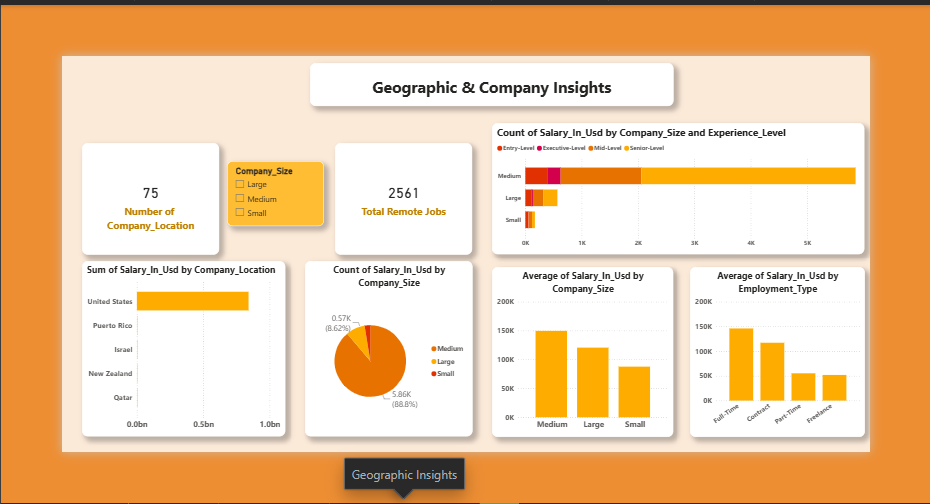

The dashboard page shown, as its layout file describes it:
{"tool":"powerbi","page":{"name":"Geographic Insights","canvas":[1650,810],"ordinal":2},"visuals":[{"type":"clusteredColumnChart","fields":{"Category":["data_science_salaries.Company_Size"],"Y":["Avg(data_science_salaries.Salary_In_Usd)"]},"box":[878.3,430,370,346.7],"z":0},{"type":"card","fields":{"Values":["Count(data_science_salaries.Company_Location)"]},"box":[40,176.7,280,228.3],"z":1},{"type":"clusteredBarChart","fields":{"Category":["data_science_salaries.Company_Location"],"Y":["Sum(data_science_salaries.Salary_In_Usd)"]},"box":[40,418.3,415,358.3],"z":2},{"type":"card","fields":{"Values":["CountNonNull(data_science_salaries.Salary_In_Usd)"]},"box":[556.7,176.7,280,228.3],"z":4},{"type":"slicer","fields":{"Values":["data_science_salaries.Company_Size"]},"box":[336.7,215,198.3,133.3],"z":5},{"type":"pieChart","fields":{"Category":["data_science_salaries.Company_Size"],"Y":["CountNonNull(data_science_salaries.Salary_In_Usd)"]},"box":[495,418.3,341.7,358.3],"z":7},{"type":"barChart","fields":{"Category":["data_science_salaries.Company_Size"],"Y":["CountNonNull(data_science_salaries.Salary_In_Usd)"],"Series":["data_science_salaries.Experience_Level"]},"box":[878.3,136.7,760,268.3],"z":8},{"type":"textbox","box":[506.7,13.3,741.7,88.3],"z":9},{"type":"clusteredColumnChart","fields":{"Category":["data_science_salaries.Employment_Type"],"Y":["Avg(data_science_salaries.Salary_In_Usd)"]},"box":[1281.7,430,356.7,346.7],"z":10}]}

Visuals, with their boxes on the page's 1650x810 design canvas (x1, y1, x2, y2). These are canvas units, not pixel positions in the 930x504 screenshot, which may show the page scaled, cropped or inside an application window:
clusteredColumnChart - data_science_salaries.Company_Size x Avg(data_science_salaries.Salary_In_Usd): locate(878, 430, 1248, 777)
card - Count(data_science_salaries.Company_Location): locate(40, 177, 320, 405)
clusteredBarChart - data_science_salaries.Company_Location x Sum(data_science_salaries.Salary_In_Usd): locate(40, 418, 455, 777)
card - CountNonNull(data_science_salaries.Salary_In_Usd): locate(557, 177, 837, 405)
slicer - data_science_salaries.Company_Size: locate(337, 215, 535, 348)
pieChart - data_science_salaries.Company_Size x CountNonNull(data_science_salaries.Salary_In_Usd): locate(495, 418, 837, 777)
barChart - data_science_salaries.Company_Size x CountNonNull(data_science_salaries.Salary_In_Usd): locate(878, 137, 1638, 405)
textbox: locate(507, 13, 1248, 102)
clusteredColumnChart - data_science_salaries.Employment_Type x Avg(data_science_salaries.Salary_In_Usd): locate(1282, 430, 1638, 777)
